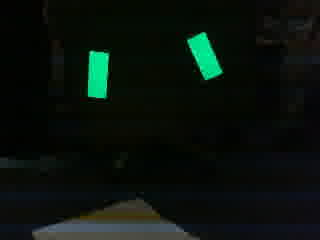target: (84, 31, 223, 103)
